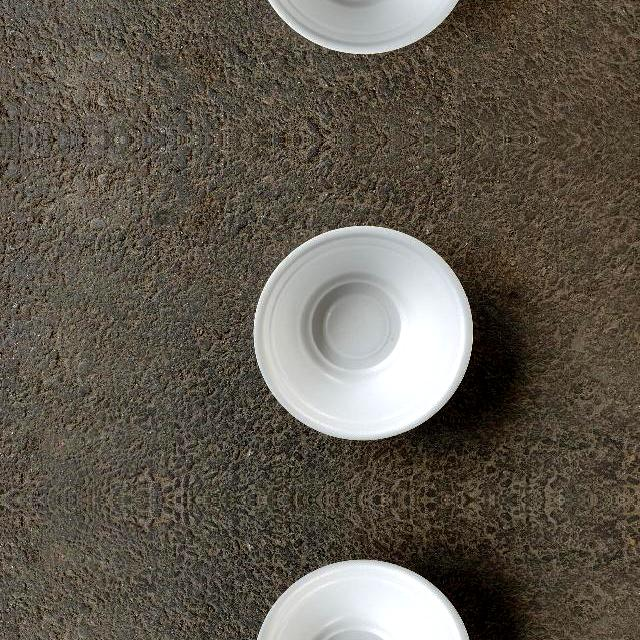Styrofoam: (253, 226, 474, 442), (254, 225, 474, 440), (253, 558, 474, 640), (257, 560, 470, 640), (253, 0, 474, 54)
